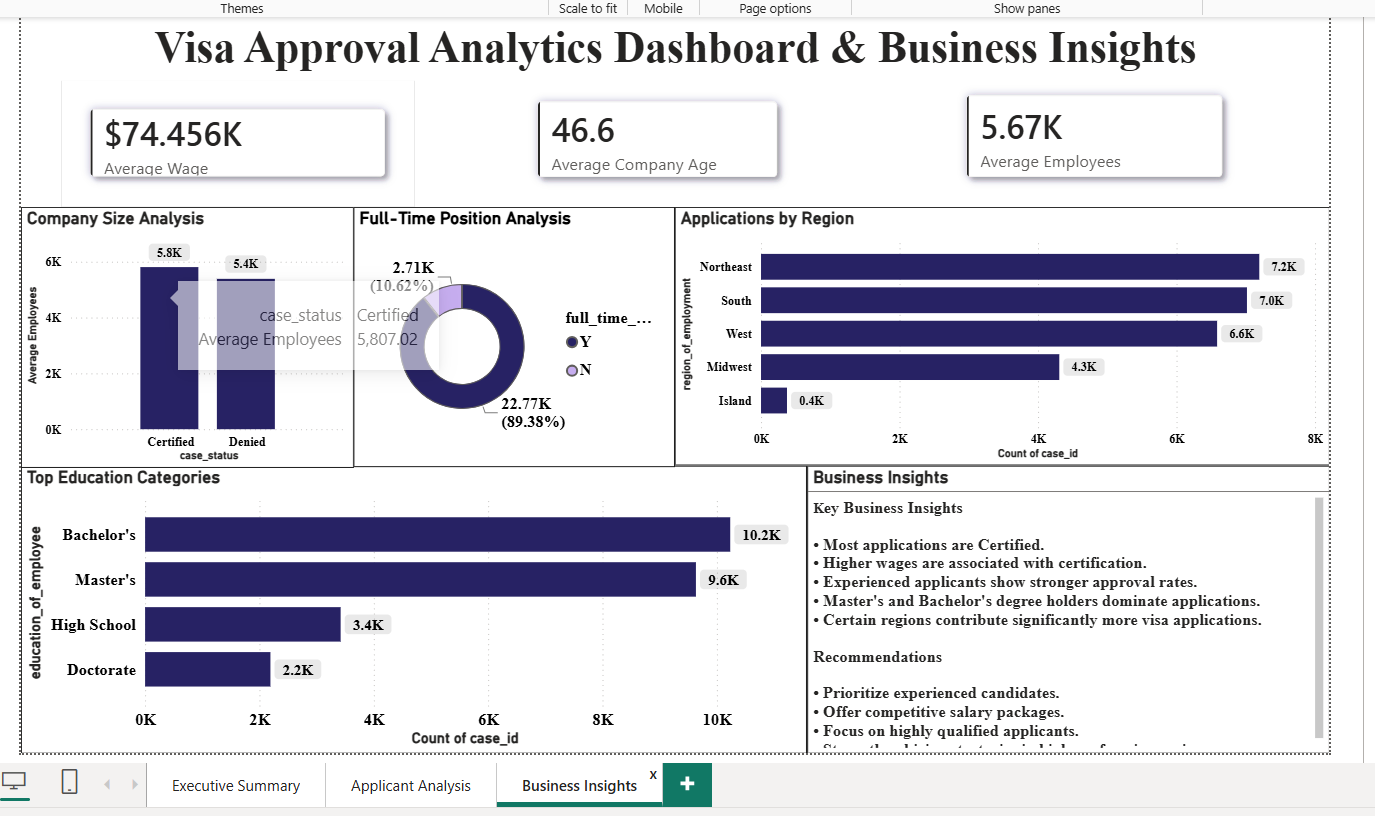

Layout of this report page (visuals, bound fields, positions):
{"tool":"powerbi","page":{"name":"Business Insights","canvas":[1280,720],"ordinal":2},"visuals":[{"type":"cardVisual","fields":{"Data":["Visadataset.Average Wage"]},"box":[39.1,61.1,346.1,124.7],"z":0},{"type":"cardVisual","fields":{"Data":["Visadataset.Average Employees"]},"box":[896.3,47.7,308.2,138.2],"z":1000},{"type":"cardVisual","fields":{"Data":["Visadataset.Average Company Age"]},"box":[476.9,53.8,292.3,132.1],"z":2000},{"type":"clusteredBarChart","title":"Applications by Region","fields":{"Category":["Visadataset.region_of_employment"],"Y":["CountNonNull(Visadataset.case_id)"]},"box":[639.5,185.9,640.8,253.1],"z":3000},{"type":"clusteredBarChart","title":"Top Education Categories","fields":{"Category":["Visadataset.education_of_employee"],"Y":["CountNonNull(Visadataset.case_id)"]},"box":[0,439,769.2,281.3],"z":4000},{"type":"columnChart","title":"Company Size Analysis","fields":{"Category":["Visadataset.case_status"],"Y":["Visadataset.Average Employees"]},"box":[0,185.9,325.3,255.6],"z":5000},{"type":"donutChart","title":"Full-Time Position Analysis","fields":{"Category":["Visadataset.full_time_position"],"Y":["CountNonNull(Visadataset.case_id)"]},"box":[325.3,185.9,314.3,254.3],"z":6000},{"type":"textbox","title":"Business Insights","box":[769.2,439,511.1,281.3],"z":7000},{"type":"textbox","box":[0,0,1280.3,62.4],"z":8000}]}

Visuals, with their boxes on the page's 1280x720 design canvas (x1, y1, x2, y2). These are canvas units, not pixel positions in the 1375x816 screenshot, which may show the page scaled, cropped or inside an application window:
cardVisual - Visadataset.Average Wage: detection(39, 61, 385, 186)
cardVisual - Visadataset.Average Employees: detection(896, 48, 1204, 186)
cardVisual - Visadataset.Average Company Age: detection(477, 54, 769, 186)
"Applications by Region" clusteredBarChart: detection(640, 186, 1280, 439)
"Top Education Categories" clusteredBarChart: detection(0, 439, 769, 720)
"Company Size Analysis" columnChart: detection(0, 186, 325, 442)
"Full-Time Position Analysis" donutChart: detection(325, 186, 640, 440)
"Business Insights" textbox: detection(769, 439, 1280, 720)
textbox: detection(0, 0, 1280, 62)
